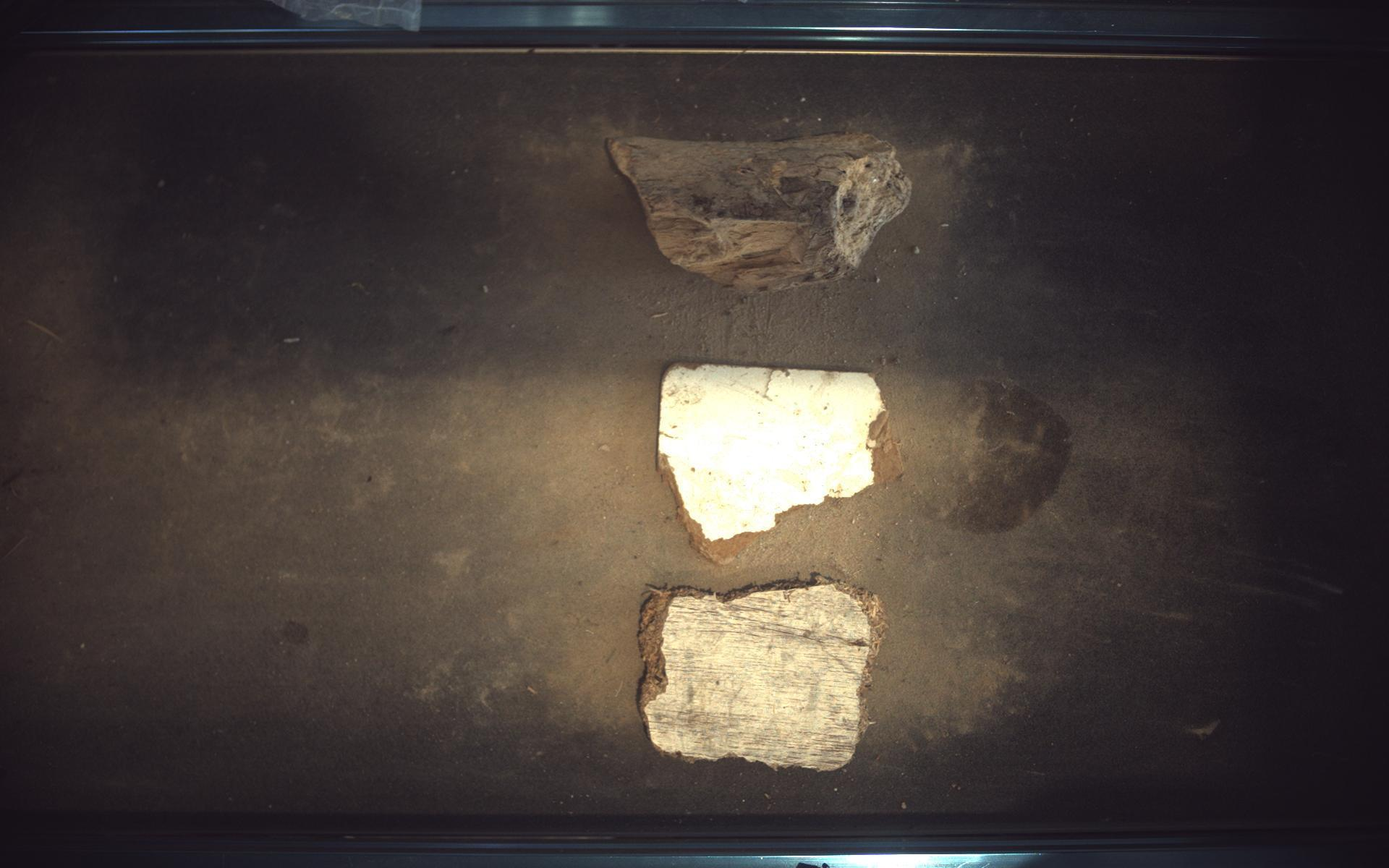wood: (660, 363, 905, 564), (639, 576, 888, 772), (607, 132, 913, 290)
